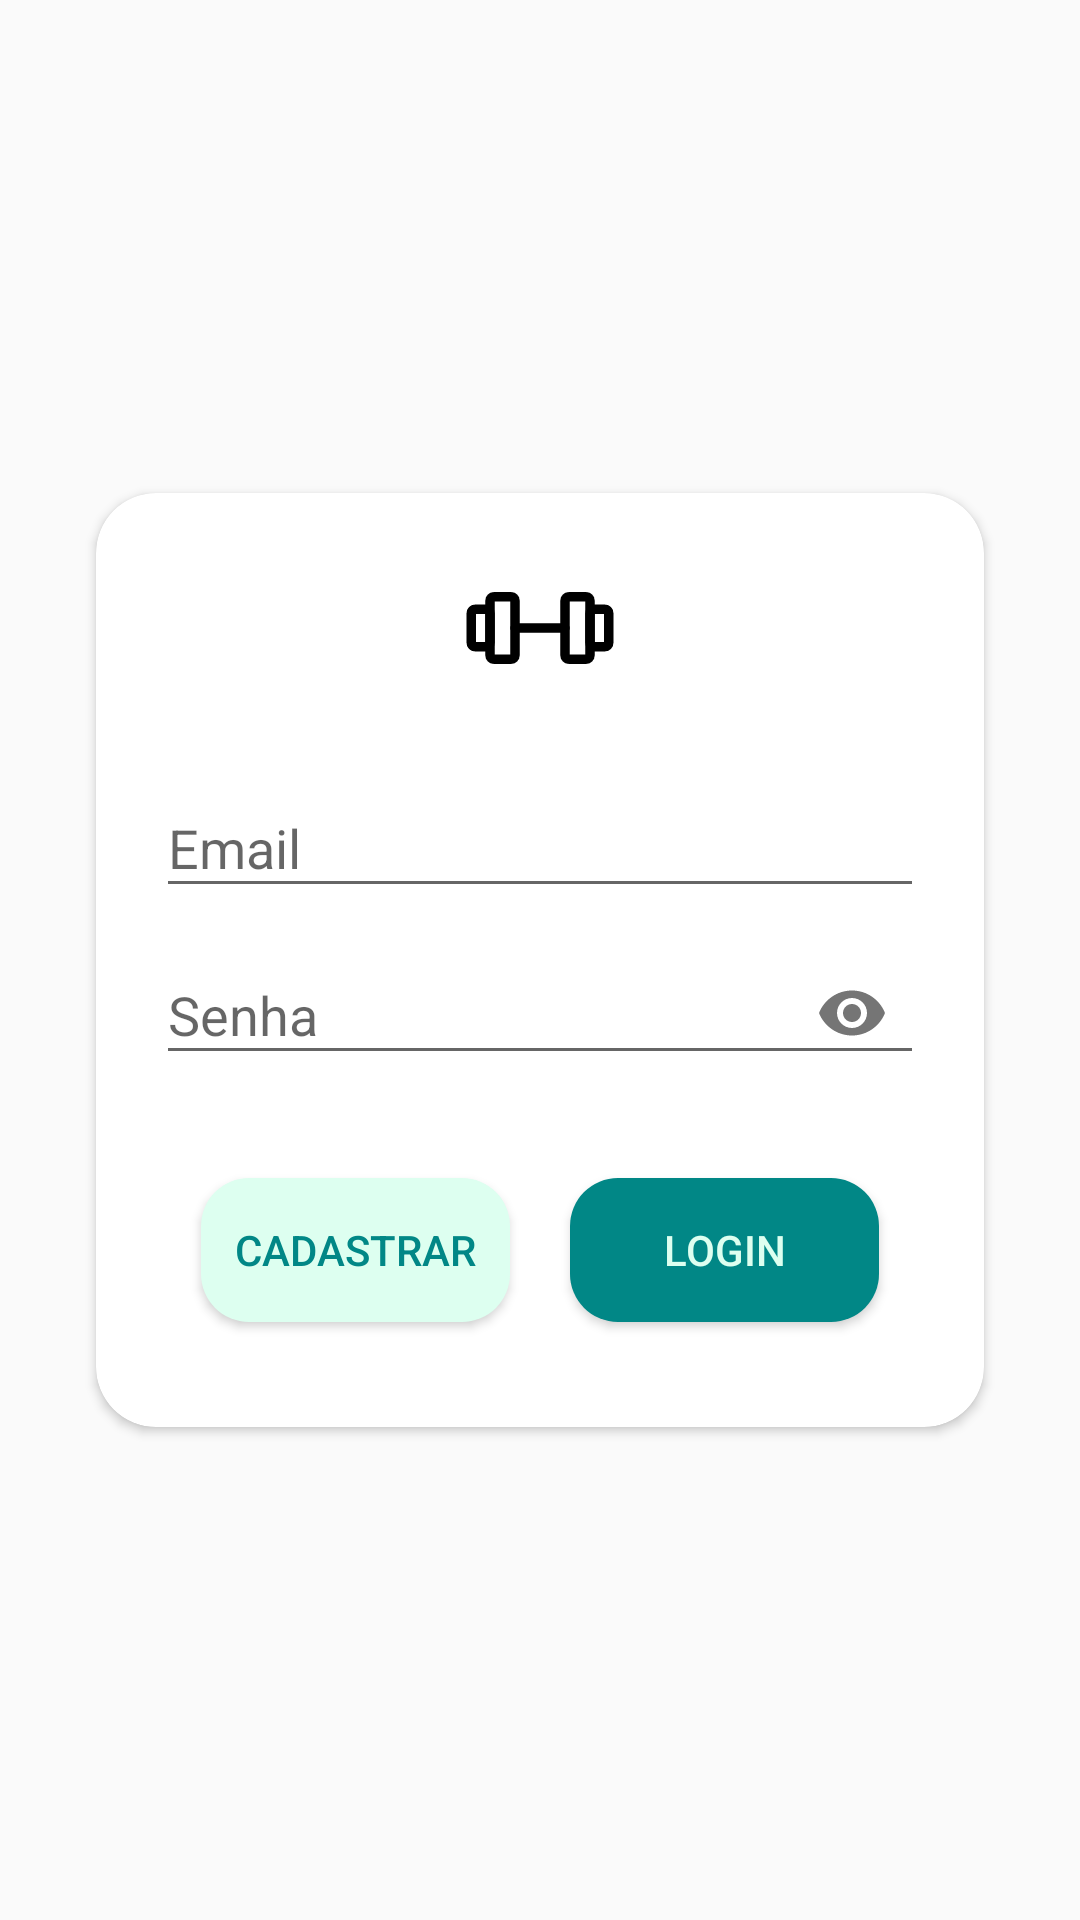

Named icons in this screenshot (1080w x 1920h) and their centers, (x,y):
gym: (540,628)
